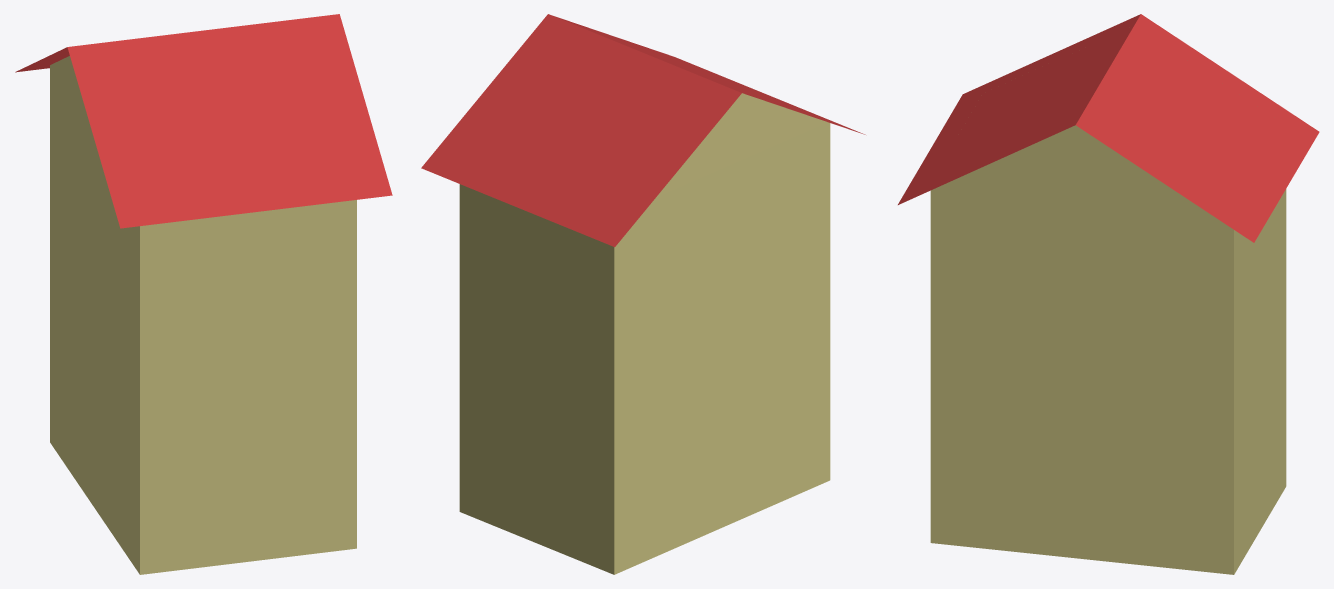
3 views of the same model, side by side, from view 1: azimuth 30°, elevation 25°; view 2: azimuth 150°, elevation 25°; view 3: azimuth 270°, elevation 25° (orthographic). The views are drawn at different scales.
Bounding box in the file's own units: 6.41 × 7.69 × 8.94.
